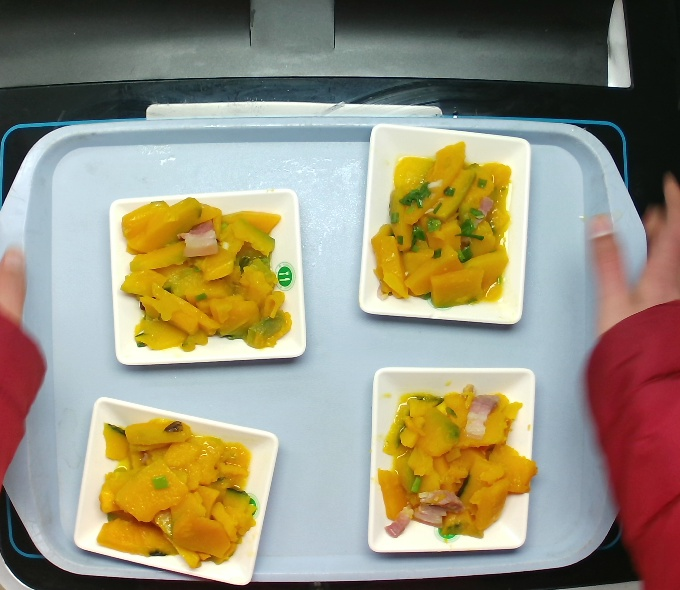wcq-NanGuaChaoLaRou: (117, 197, 294, 351), (374, 382, 538, 541), (96, 417, 259, 572), (369, 140, 514, 309)
